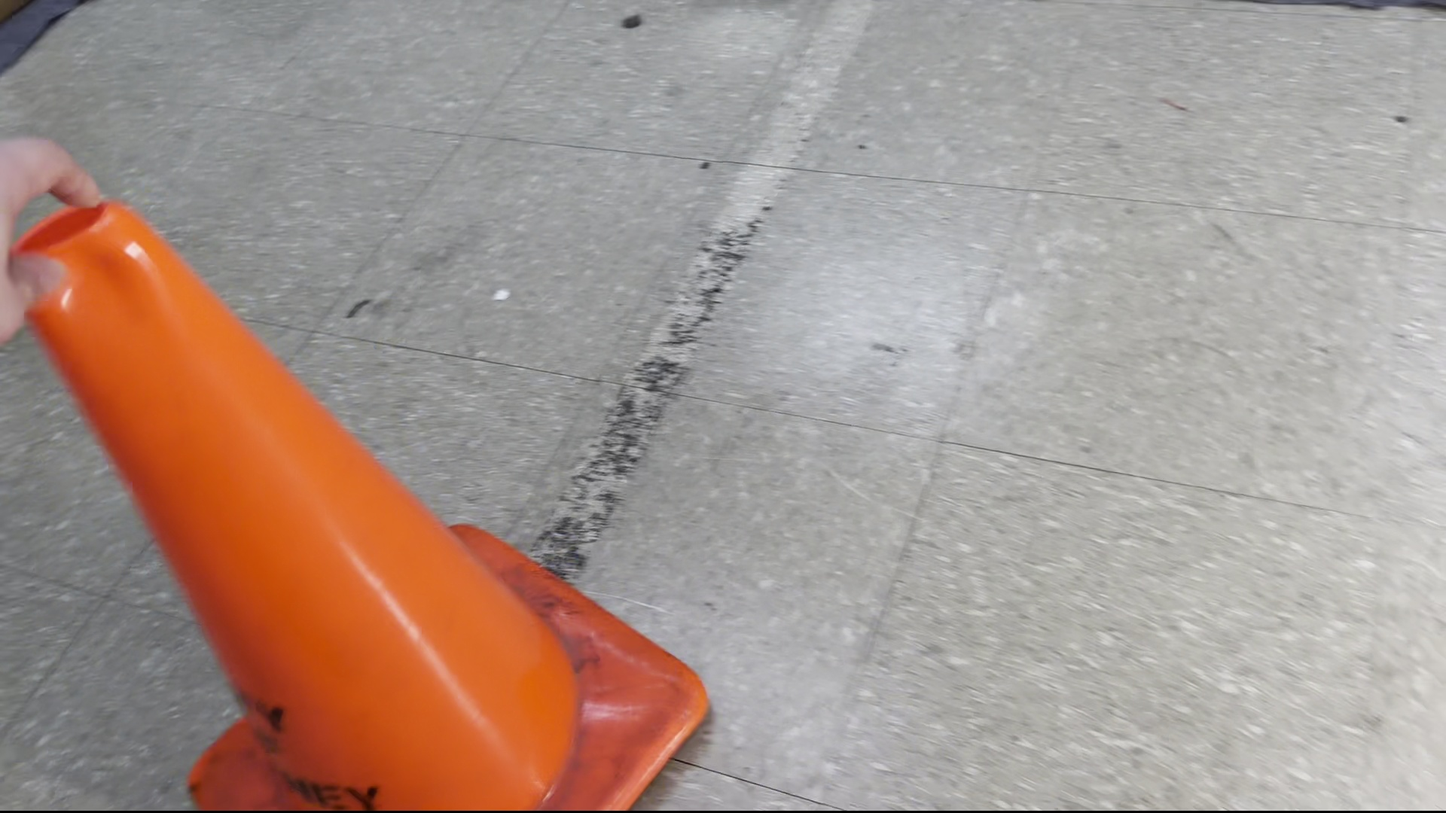traffic_cone: (9, 197, 710, 811)
